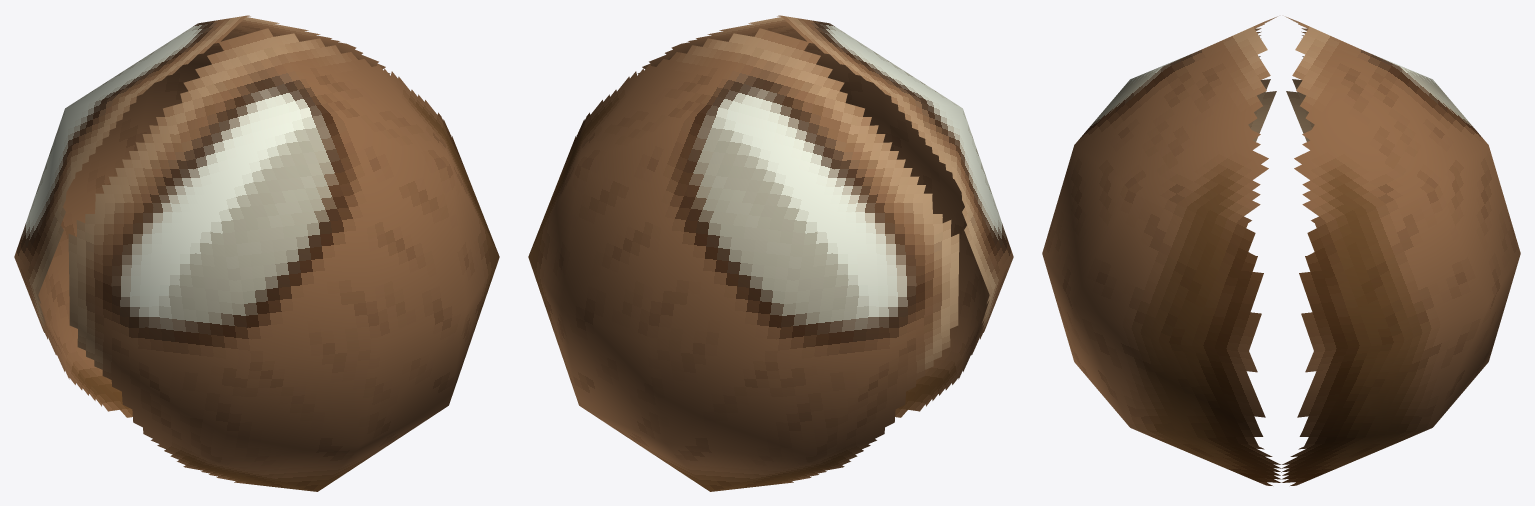
Rendered from Coconut.FBX.
3 renders of one model, left to right at view 1: azimuth 30°, elevation 25°; view 2: azimuth 150°, elevation 25°; view 3: azimuth 270°, elevation 25°, orthographic.
Visible parts, largest first — view 1: GeoSphere003; view 2: GeoSphere003; view 3: GeoSphere003.
Boxes of the visible parts, x1,y1,x2,y2 form: GeoSphere003: (14, 15, 499, 491); GeoSphere003: (528, 15, 1013, 491); GeoSphere003: (1042, 16, 1520, 485).
Size of the model in its own units: 116 by 119 by 116.
